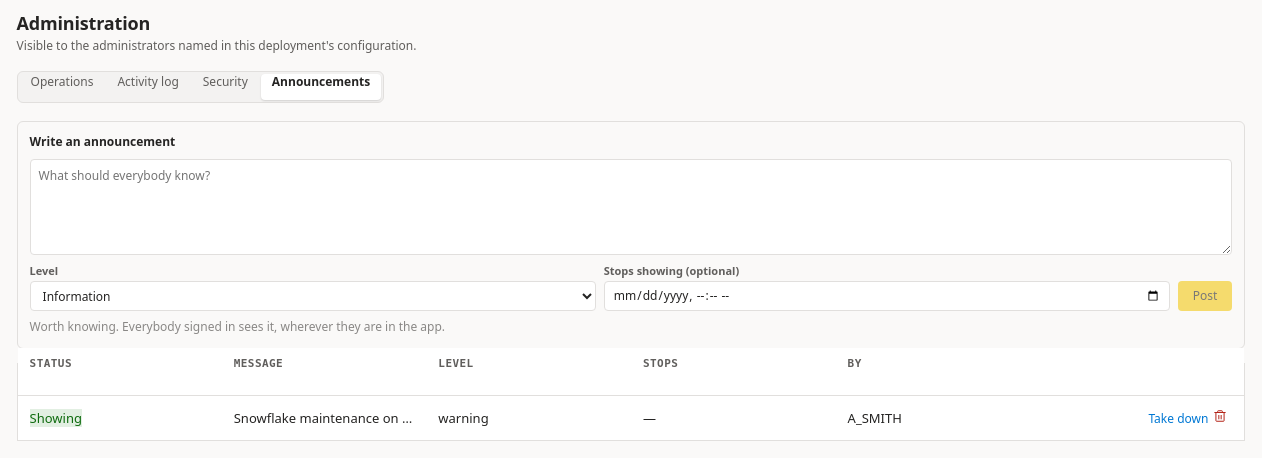
Test: Announcements › says what the chosen level will do
Expected: the text "Snowflake maintenance on Saturday." is shown, top-left (222, 396), bottom-right (426, 441)
Select "Critical" in the dropdown labelled "Level" at (313, 296), box top-left (30, 281), bottom-right (596, 311)
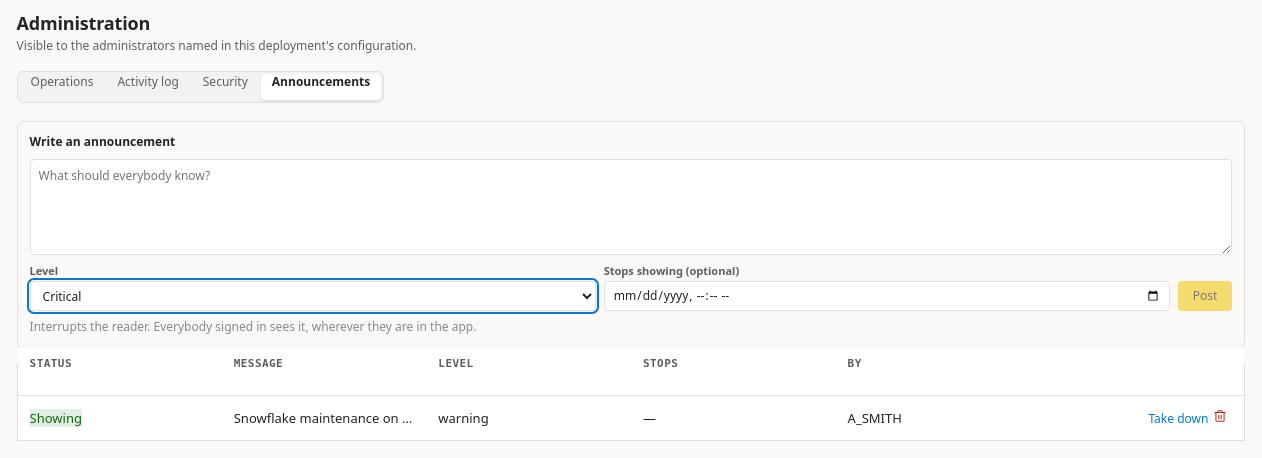
Now the text "Interrupts the reader" is shown, box top-left (30, 318), bottom-right (147, 335)
